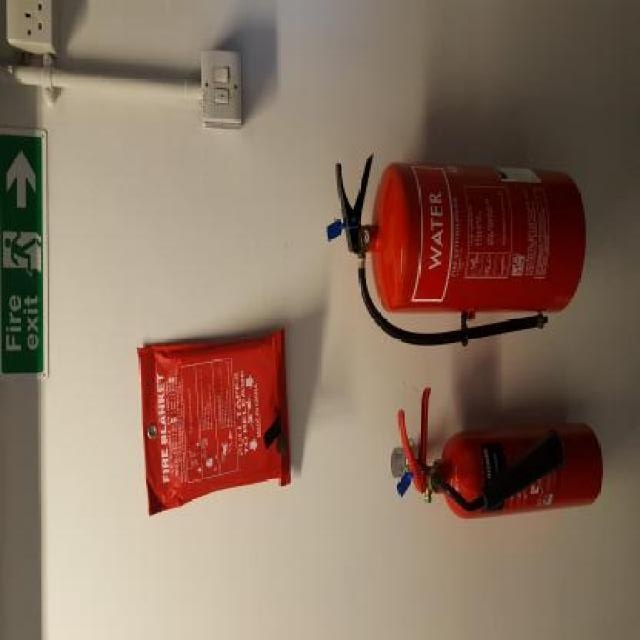fire extinguisher: (336, 155, 587, 347), (399, 385, 603, 519)
